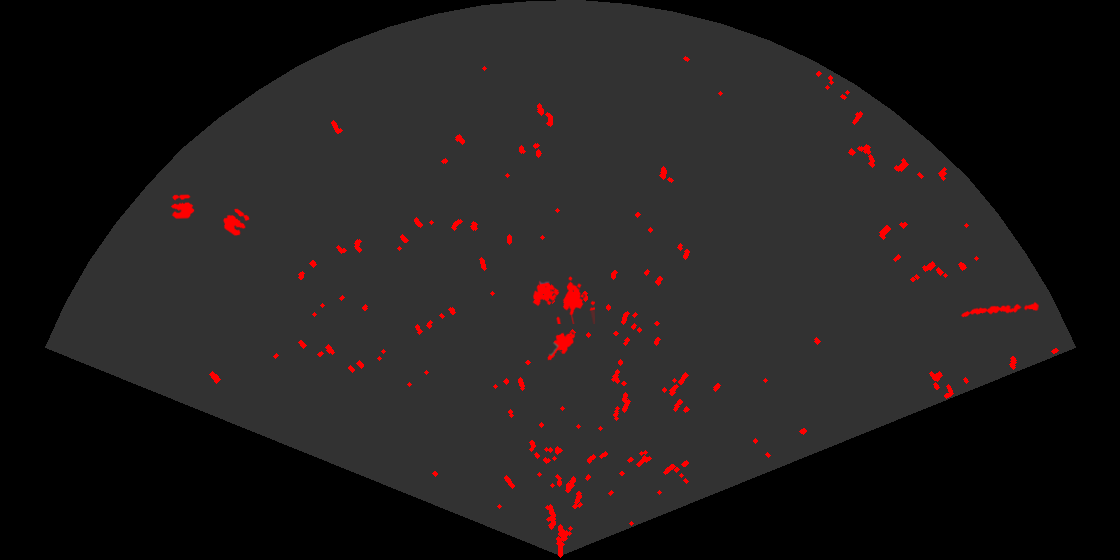AUV: (546, 331, 577, 362)
ball: (221, 207, 251, 237), (169, 193, 196, 220)
cage: (531, 275, 595, 324)
chain: (959, 300, 1039, 319)
